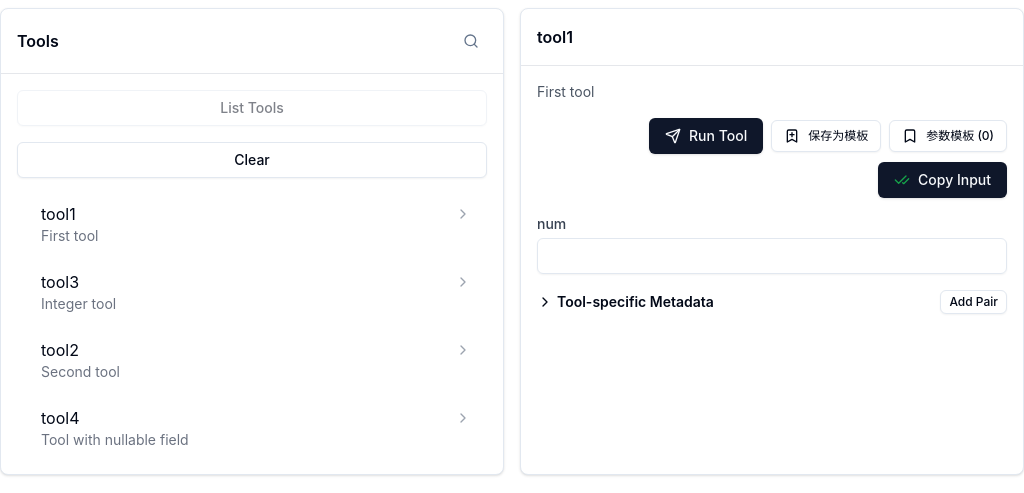
Scenario: ToolsTab › Reserved metadata keys › should block execution when reserved metadata prefix is provided
Click the button "Add Pair".
click(974, 302)  # box x1=940 y1=290 x2=1007 y2=314
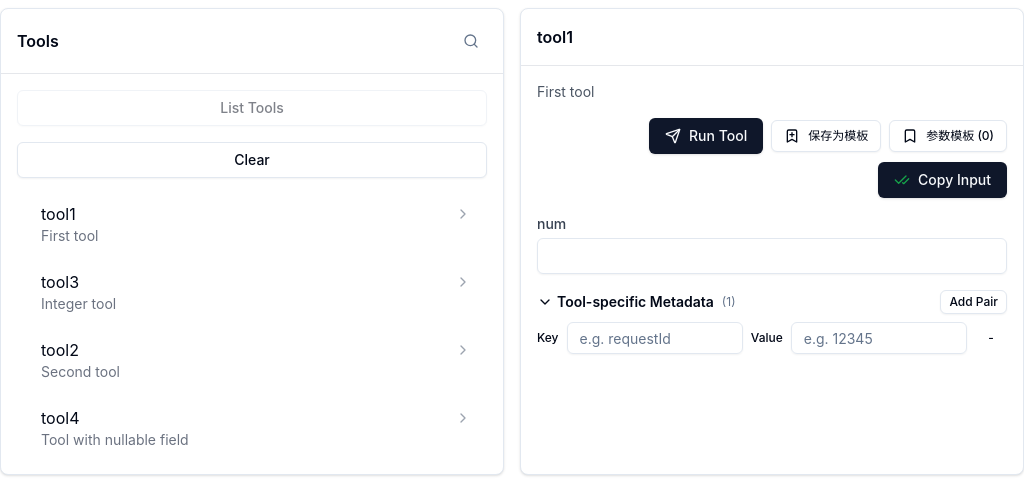
Type "modelcontextprotocol.io/flip" into the field with placeholder "e.g. requestId".
click(655, 338); type("modelcontextprotocol.io/flip")  # box x1=566 y1=322 x2=743 y2=354
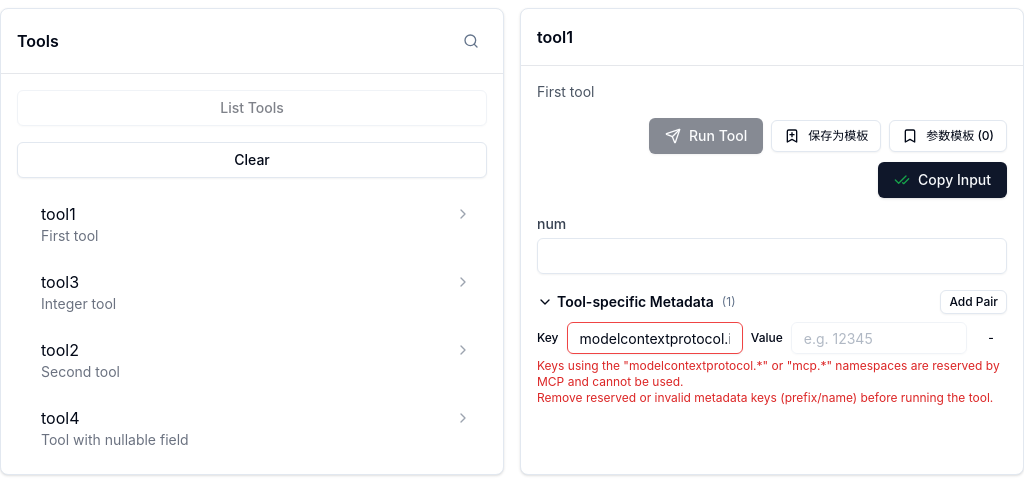
Expected: the button "Run Tool" is disabled, x1=649 y1=118 x2=763 y2=154
Expected: the text "Keys using the \"modelcontextprotocol.*\" or \"mcp.*\" namespaces are reserved by MCP and cannot be used." is shown, x1=537 y1=358 x2=1000 y2=389
